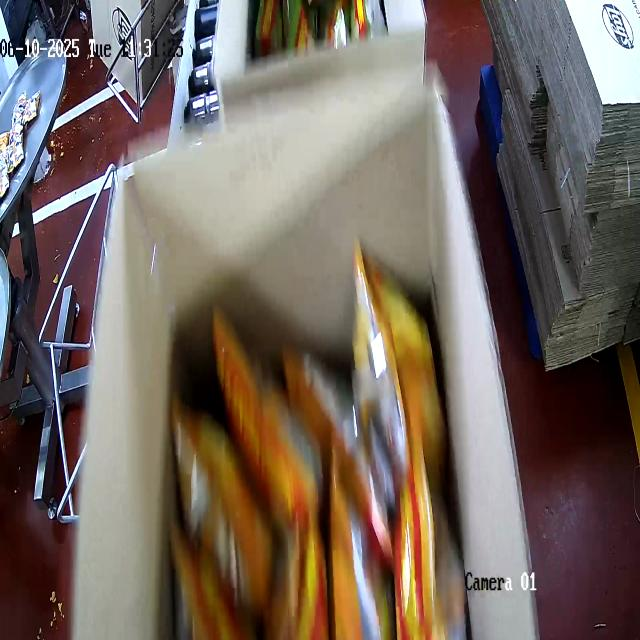FRENCH_CHEESE: (158, 262, 455, 640)
